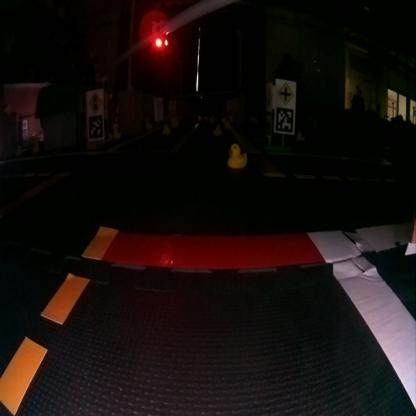Duckie: (227, 143, 247, 168), (212, 125, 222, 135), (162, 124, 170, 134), (32, 142, 38, 152), (15, 146, 21, 154)
Intersection sign: (275, 80, 295, 104)
QR code: (275, 106, 294, 132), (87, 113, 104, 138), (265, 109, 271, 136)
Signal sign: (86, 91, 102, 111), (266, 84, 272, 106)
Traffic light: (148, 21, 170, 50)
